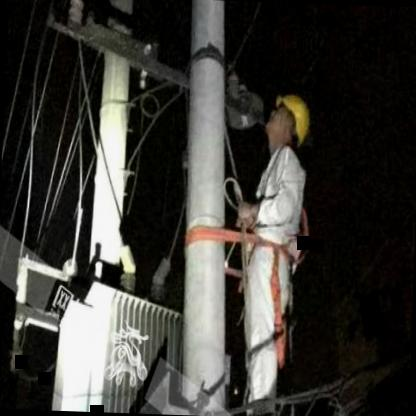helmet: (264, 90, 312, 156)
